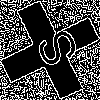S: (25, 25, 81, 75)
